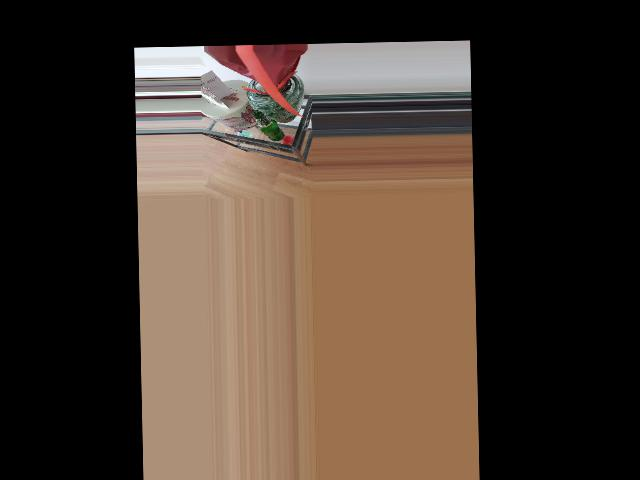beer: (252, 110, 285, 141)
